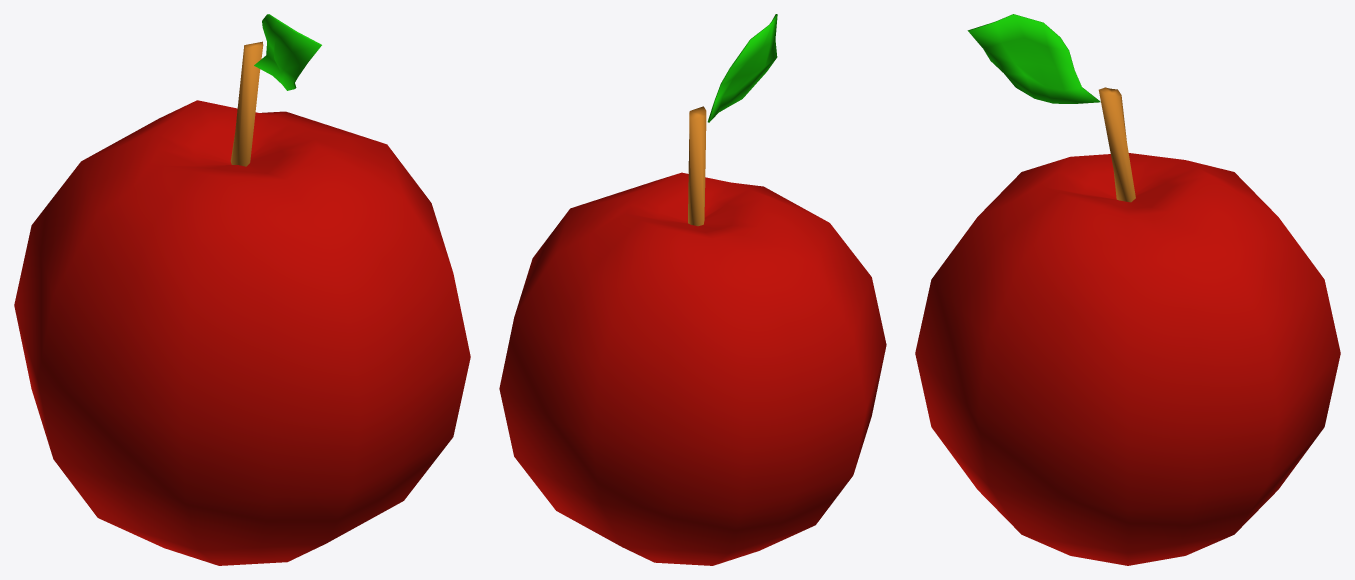
Rendered from apple.fbx.
3 renders of one model, left to right at view 1: azimuth 30°, elevation 25°; view 2: azimuth 150°, elevation 25°; view 3: azimuth 270°, elevation 25°, orthographic. The views are drawn at different scales.
Parts seen in each view (by area): view 1: Sphere, Sphere.001, Sphere.002; view 2: Sphere, Sphere.001, Sphere.002; view 3: Sphere, Sphere.001, Sphere.002.
Boxes of the visible parts, x1,y1,x2,y2 form: Sphere: (14,100,470,565); Sphere.001: (254,14,321,90); Sphere.002: (230,41,263,166); Sphere: (499,172,886,565); Sphere.001: (707,14,777,122); Sphere.002: (688,106,706,226); Sphere: (915,153,1340,565); Sphere.001: (967,14,1100,103); Sphere.002: (1098,87,1135,202).
Bounding box in the file's own units: 200 × 264 × 200.
